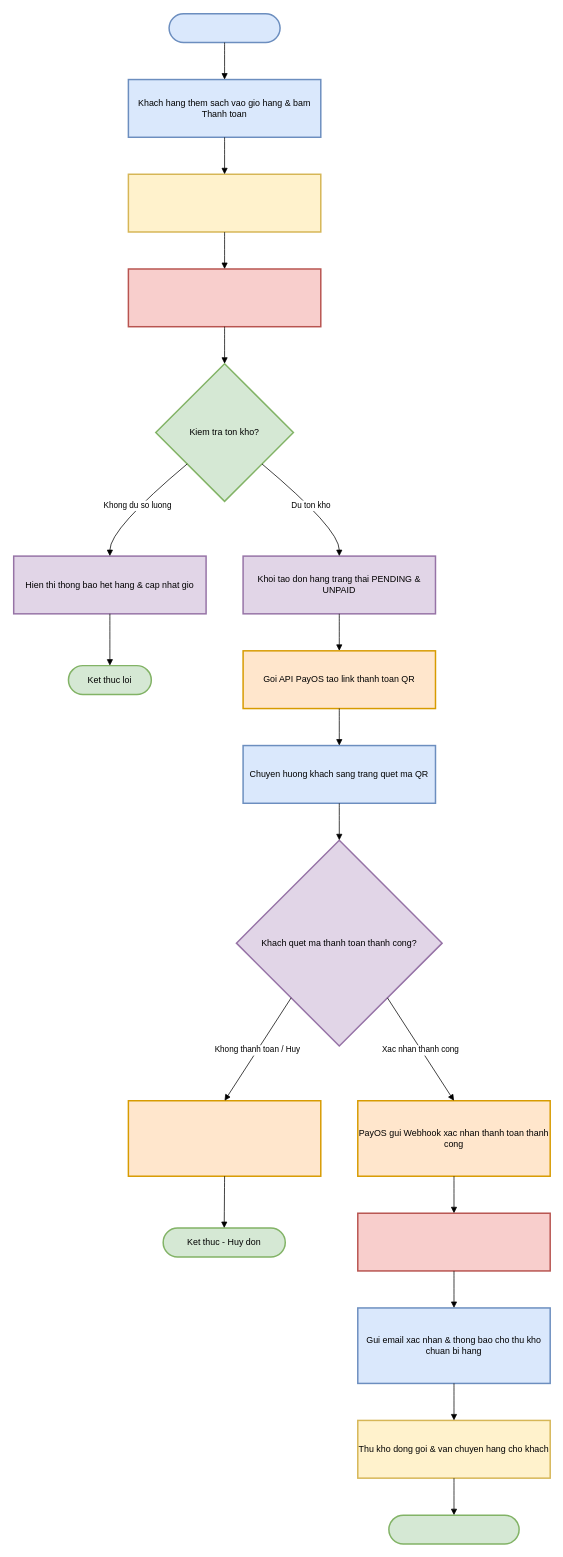
Image size: 563x1557. Some labels were removed from this diagram. Each missing label, with the centre of its shape:
Bat dau dat hang: pixel 224 28
Chon dia chi nhan hang & chon phuong thuc Online: pixel 224 202
He thong cap nhat don sang PAID & CONFIRMED: pixel 454 1241
Huy don hang sau 15 phut hoac khi khach chu dong huy: pixel 224 1138
Ket thuc thanh cong: pixel 453 1529
Khach hang xac nhan dat hang: pixel 224 297
